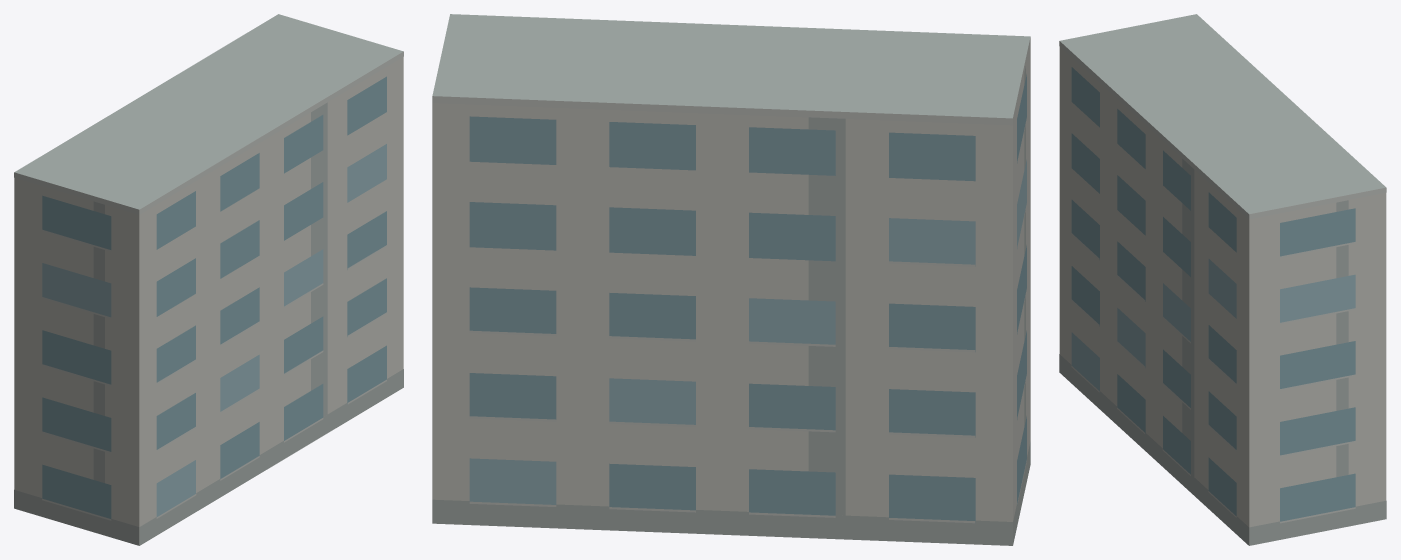
Rendered from residential-116f8883-950e-4ffe-8e61-5a45711023bb.glb.
3 views of the same model, side by side, from view 1: azimuth 30°, elevation 25°; view 2: azimuth 150°, elevation 25°; view 3: azimuth 270°, elevation 25° (orthographic). The views are drawn at different scales.
Visible parts, largest first — view 1: residential-116f8883-950e-4ffe-8e61-5a45711023bb.tmp; view 2: residential-116f8883-950e-4ffe-8e61-5a45711023bb.tmp; view 3: residential-116f8883-950e-4ffe-8e61-5a45711023bb.tmp.
Boxes of the visible parts, box(x1,y1,x2,y2) form: residential-116f8883-950e-4ffe-8e61-5a45711023bb.tmp: box(14, 14, 403, 545); residential-116f8883-950e-4ffe-8e61-5a45711023bb.tmp: box(432, 14, 1030, 545); residential-116f8883-950e-4ffe-8e61-5a45711023bb.tmp: box(1059, 14, 1386, 545).
Bounding box in the file's own units: 19.76 × 15.25 × 13.64.
